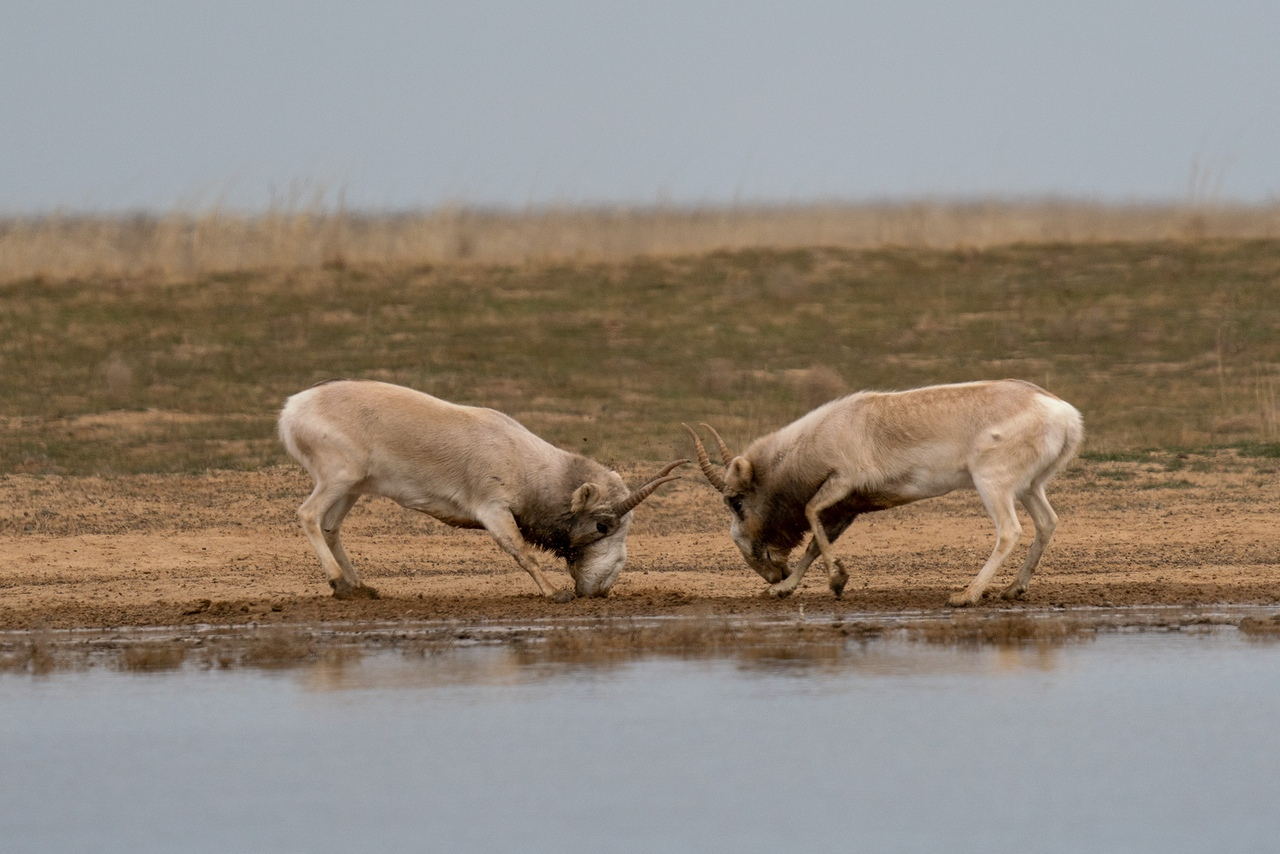saiga: (682, 377, 1107, 602), (274, 377, 690, 602)
